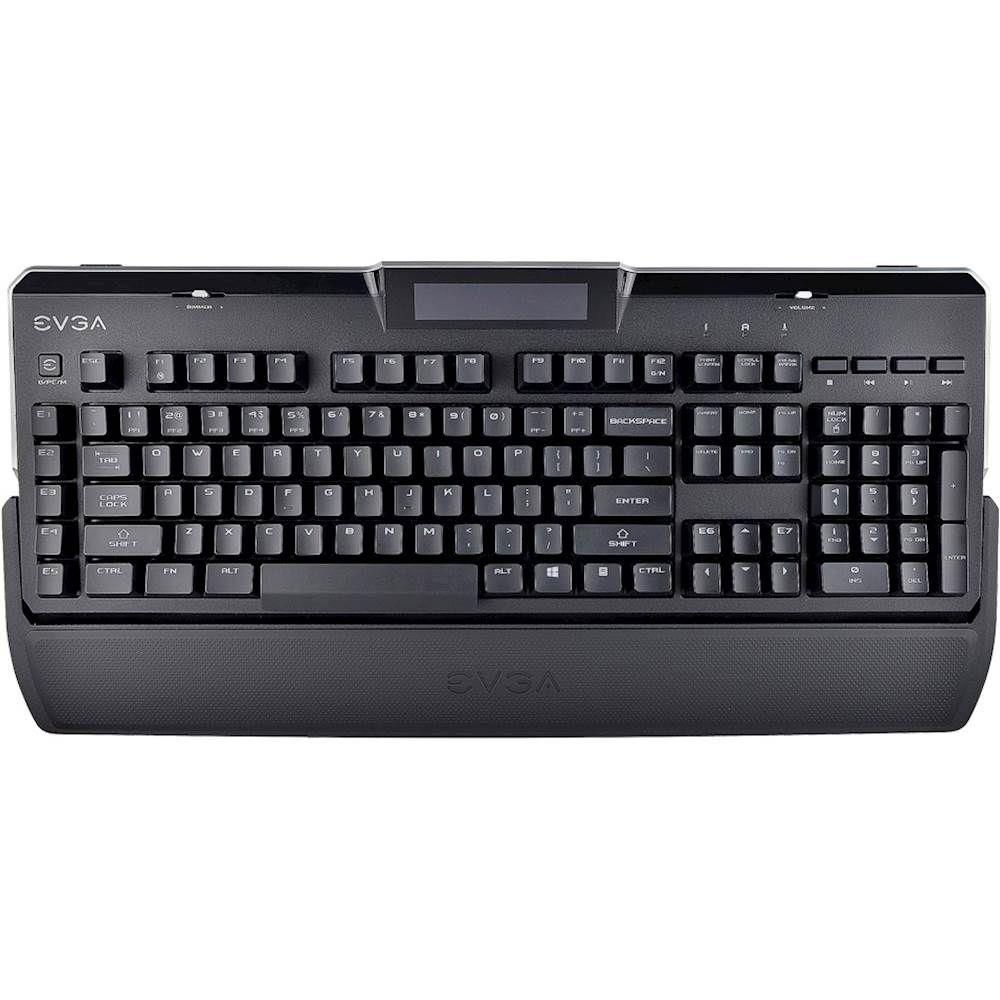keyboard: (1, 250, 1000, 738)
